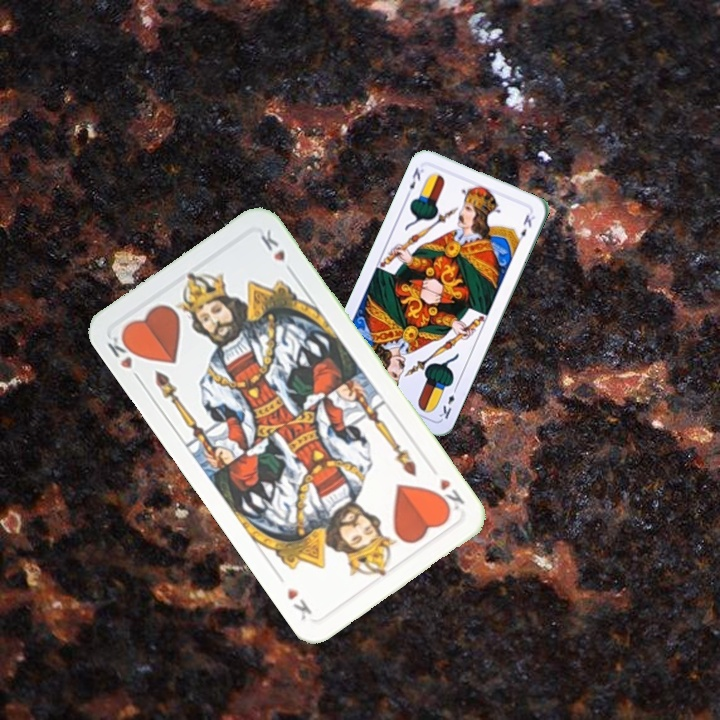EK: (435, 382, 460, 422), (404, 160, 428, 199)
HK: (102, 327, 144, 385), (430, 474, 468, 516)
